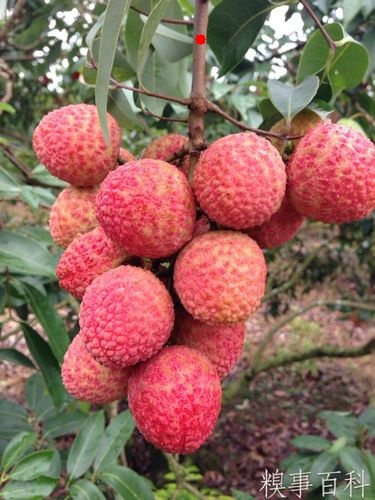litchi: (40, 113, 367, 446)
stem: (178, 1, 218, 158)
